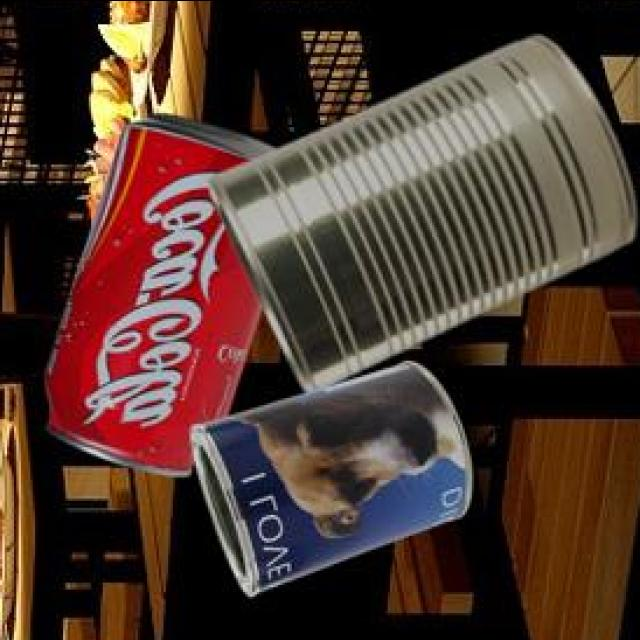logam: (207, 32, 634, 389), (41, 109, 272, 471), (188, 356, 468, 592)
